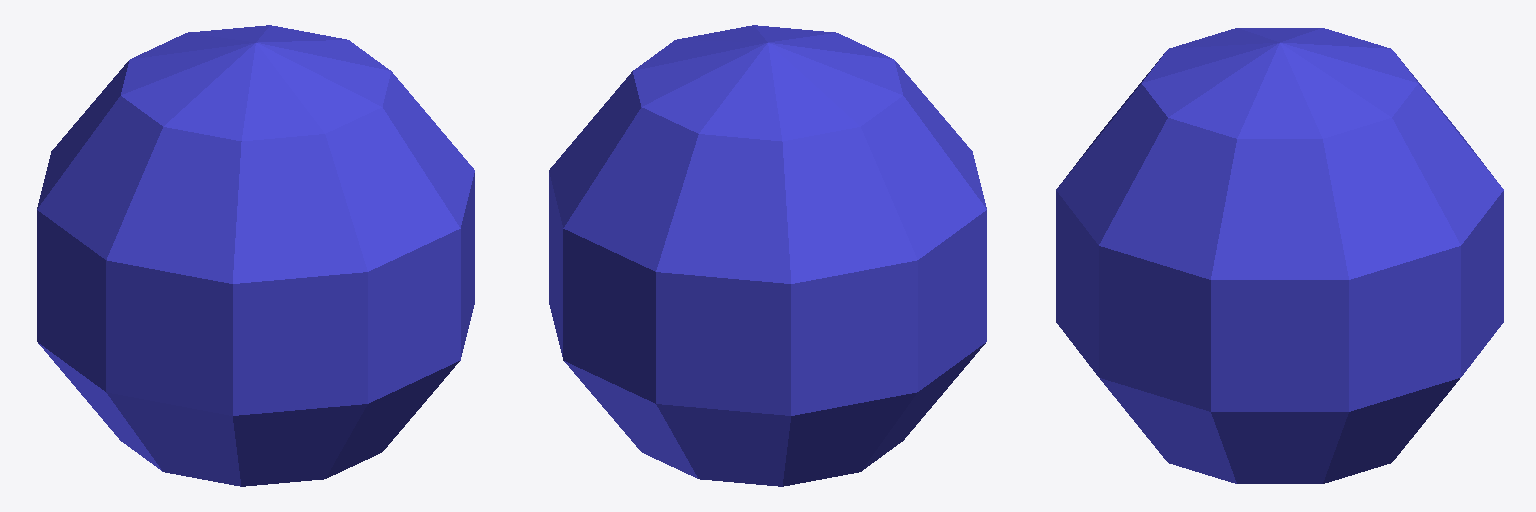
The model's file is StarModel.obj.
3 renders of one model, left to right at view 1: azimuth 30°, elevation 25°; view 2: azimuth 150°, elevation 25°; view 3: azimuth 270°, elevation 25°, orthographic.
Visible parts, largest first — view 1: Sphere001; view 2: Sphere001; view 3: Sphere001.
Boxes of the visible parts, <box> form: Sphere001: <box>37,25,474,486</box>; Sphere001: <box>549,25,986,486</box>; Sphere001: <box>1056,28,1503,483</box>.
Size of the model in its own units: 9.05 by 10 by 9.51.